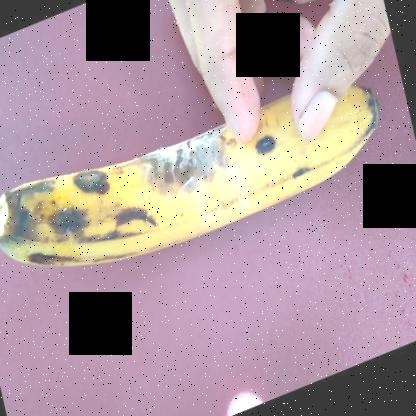overripe: (0, 65, 386, 290)
rotten: (135, 98, 242, 226)
